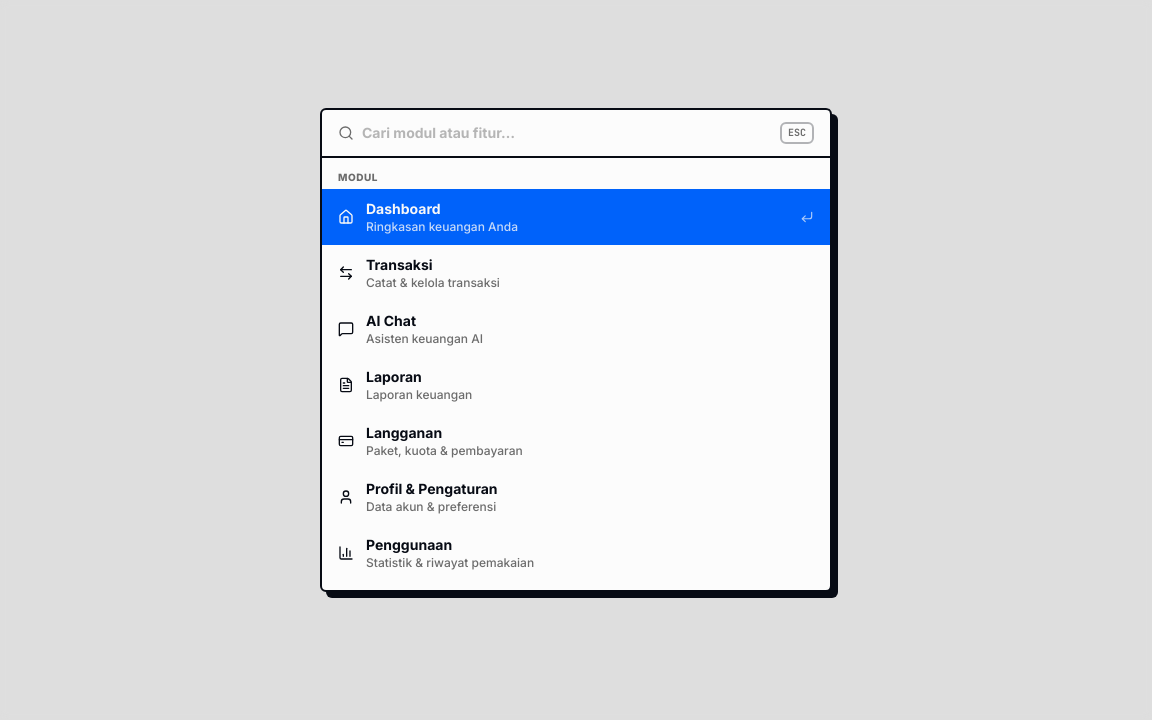
Test: SearchCommand › filters modules/features by query
Type "laporan" into the field named "Kata kunci pencarian" at (567, 133), box [362, 123, 772, 143]
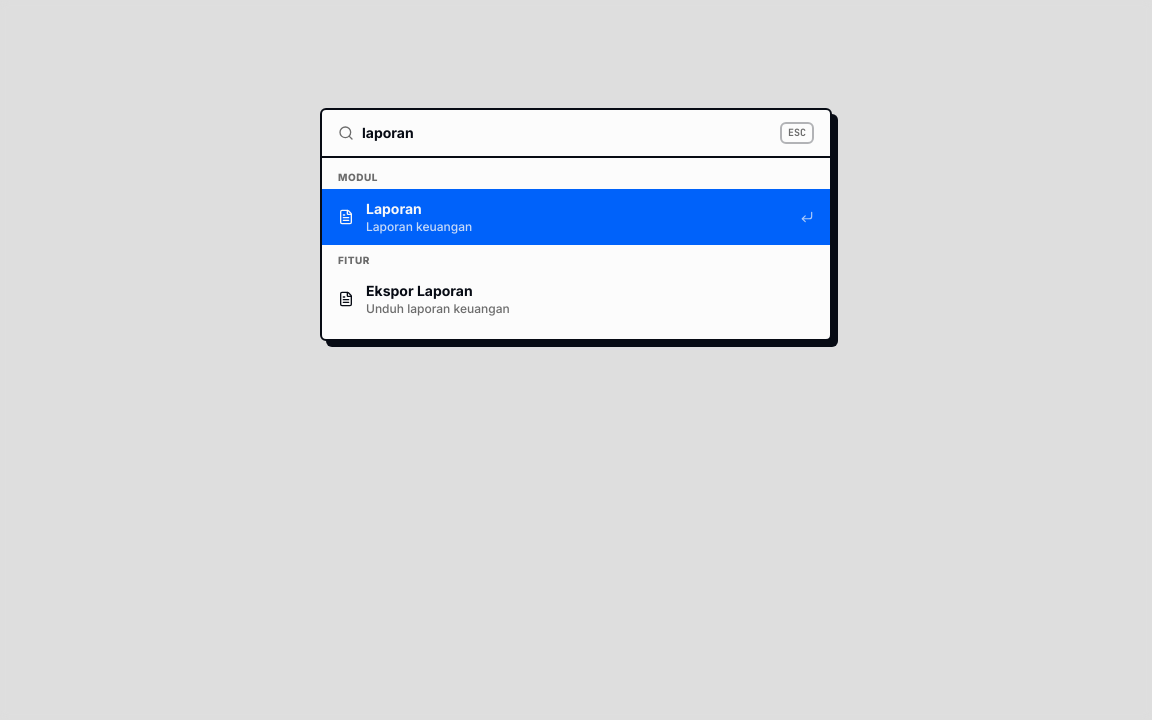
Check: the text "Laporan" is shown, box [366, 200, 422, 217]
Check: the button "AI Chat" is gone
